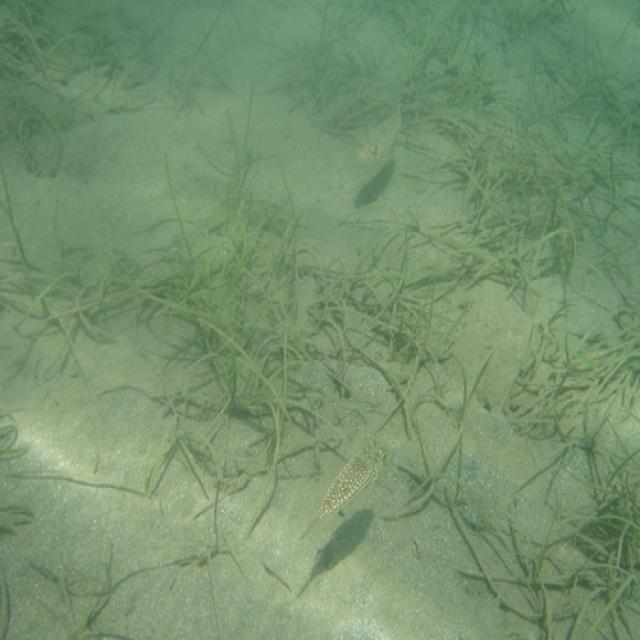Balik: (303, 439, 386, 537), (359, 106, 401, 163)
